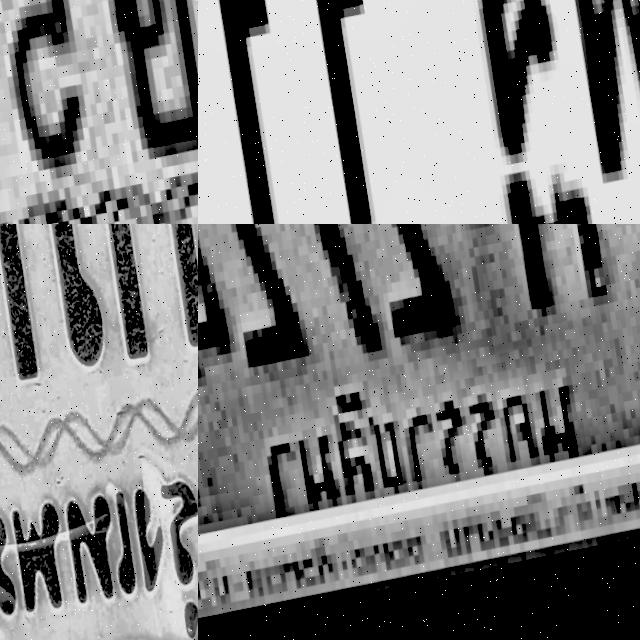license-plate: (198, 224, 640, 640), (198, 0, 640, 224), (0, 224, 198, 640), (0, 0, 198, 224)
